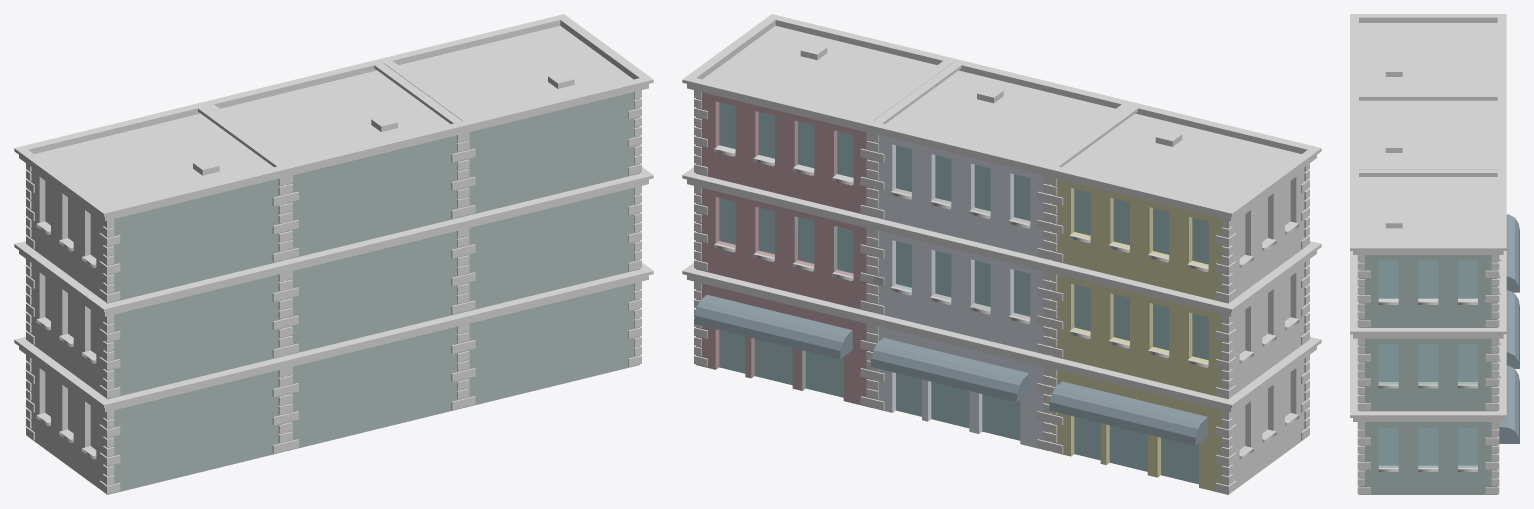
Rendered from ShoppingBlockBunt.fbx.
3 renders of one model, left to right at view 1: azimuth 30°, elevation 25°; view 2: azimuth 150°, elevation 25°; view 3: azimuth 270°, elevation 25°, orthographic. The views are drawn at different scales.
Parts seen in each view (by area): view 1: apartments2.002; view 2: apartments2.002; view 3: apartments2.002.
Boxes of the visible parts, x1=… form: apartments2.002: x1=14, y1=14, x2=653, y2=494; apartments2.002: x1=682, y1=14, x2=1321, y2=494; apartments2.002: x1=1350, y1=14, x2=1519, y2=494.
Bounding box in the file's own units: 1864 × 930 × 571.
